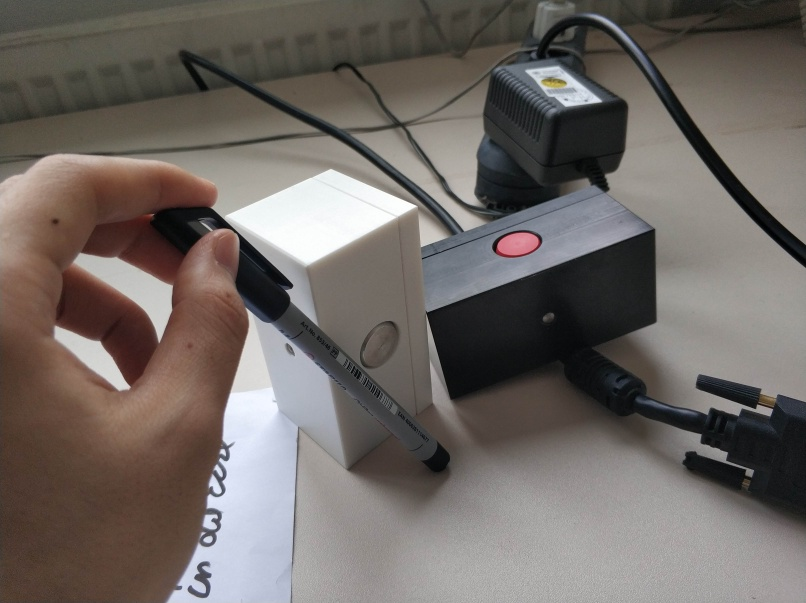black+black+red: (416, 181, 659, 405)
white+white+silver: (221, 166, 435, 477)
